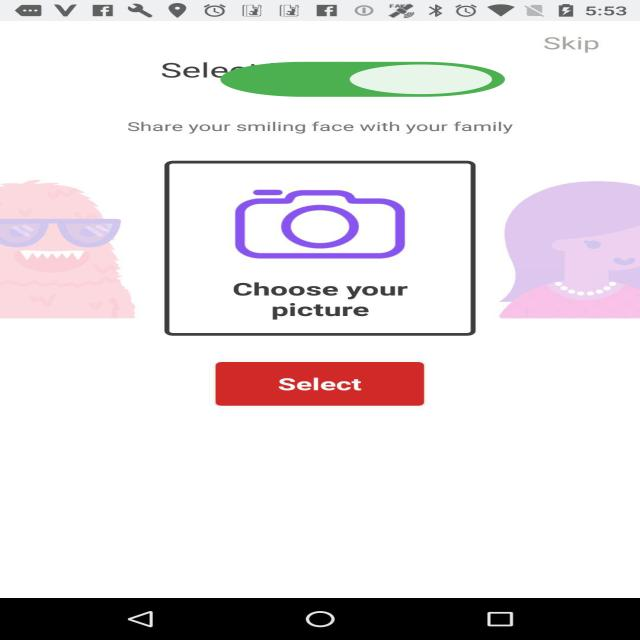social proof: (207, 48, 518, 113)
